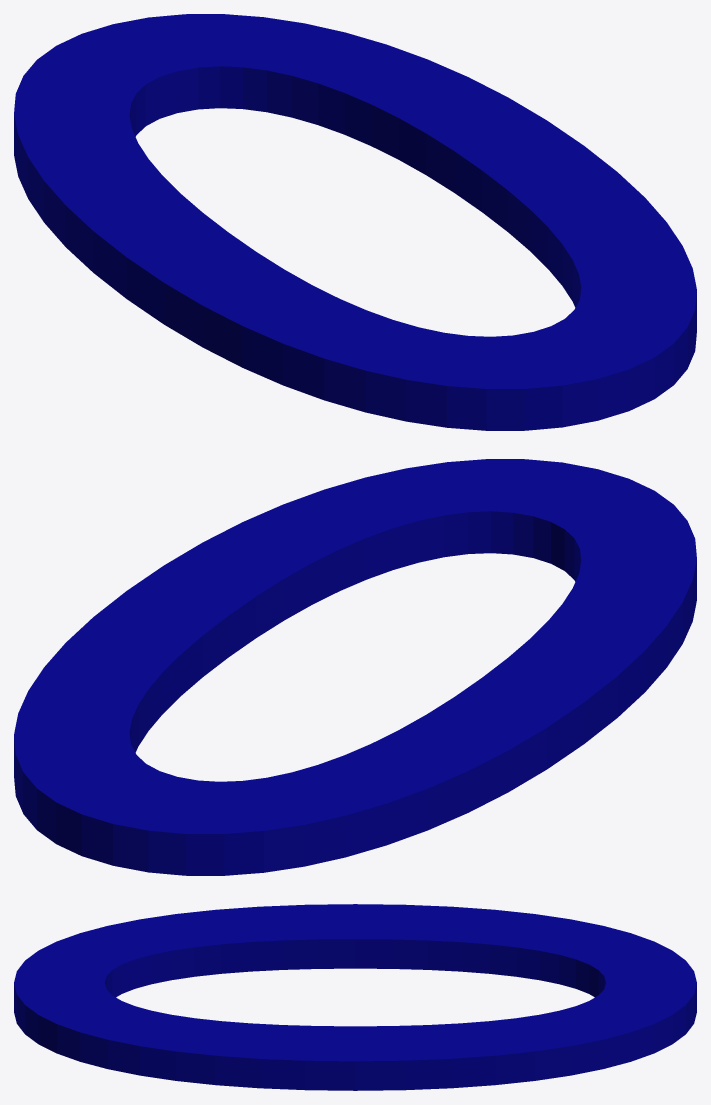
Rendered from zero.dae.
3 renders of one model, top to bottom at view 1: azimuth 30°, elevation 25°; view 2: azimuth 150°, elevation 25°; view 3: azimuth 270°, elevation 25°, orthographic. The views are drawn at different scales.
Visible parts, largest first — view 1: Text; view 2: Text; view 3: Text.
Part boxes in pixels (x1,y1,x2,y2): Text: (14, 14, 696, 430); Text: (14, 459, 696, 875); Text: (14, 904, 696, 1090).
Bounding box in the file's own units: 0.572 × 1.05 × 0.05.
